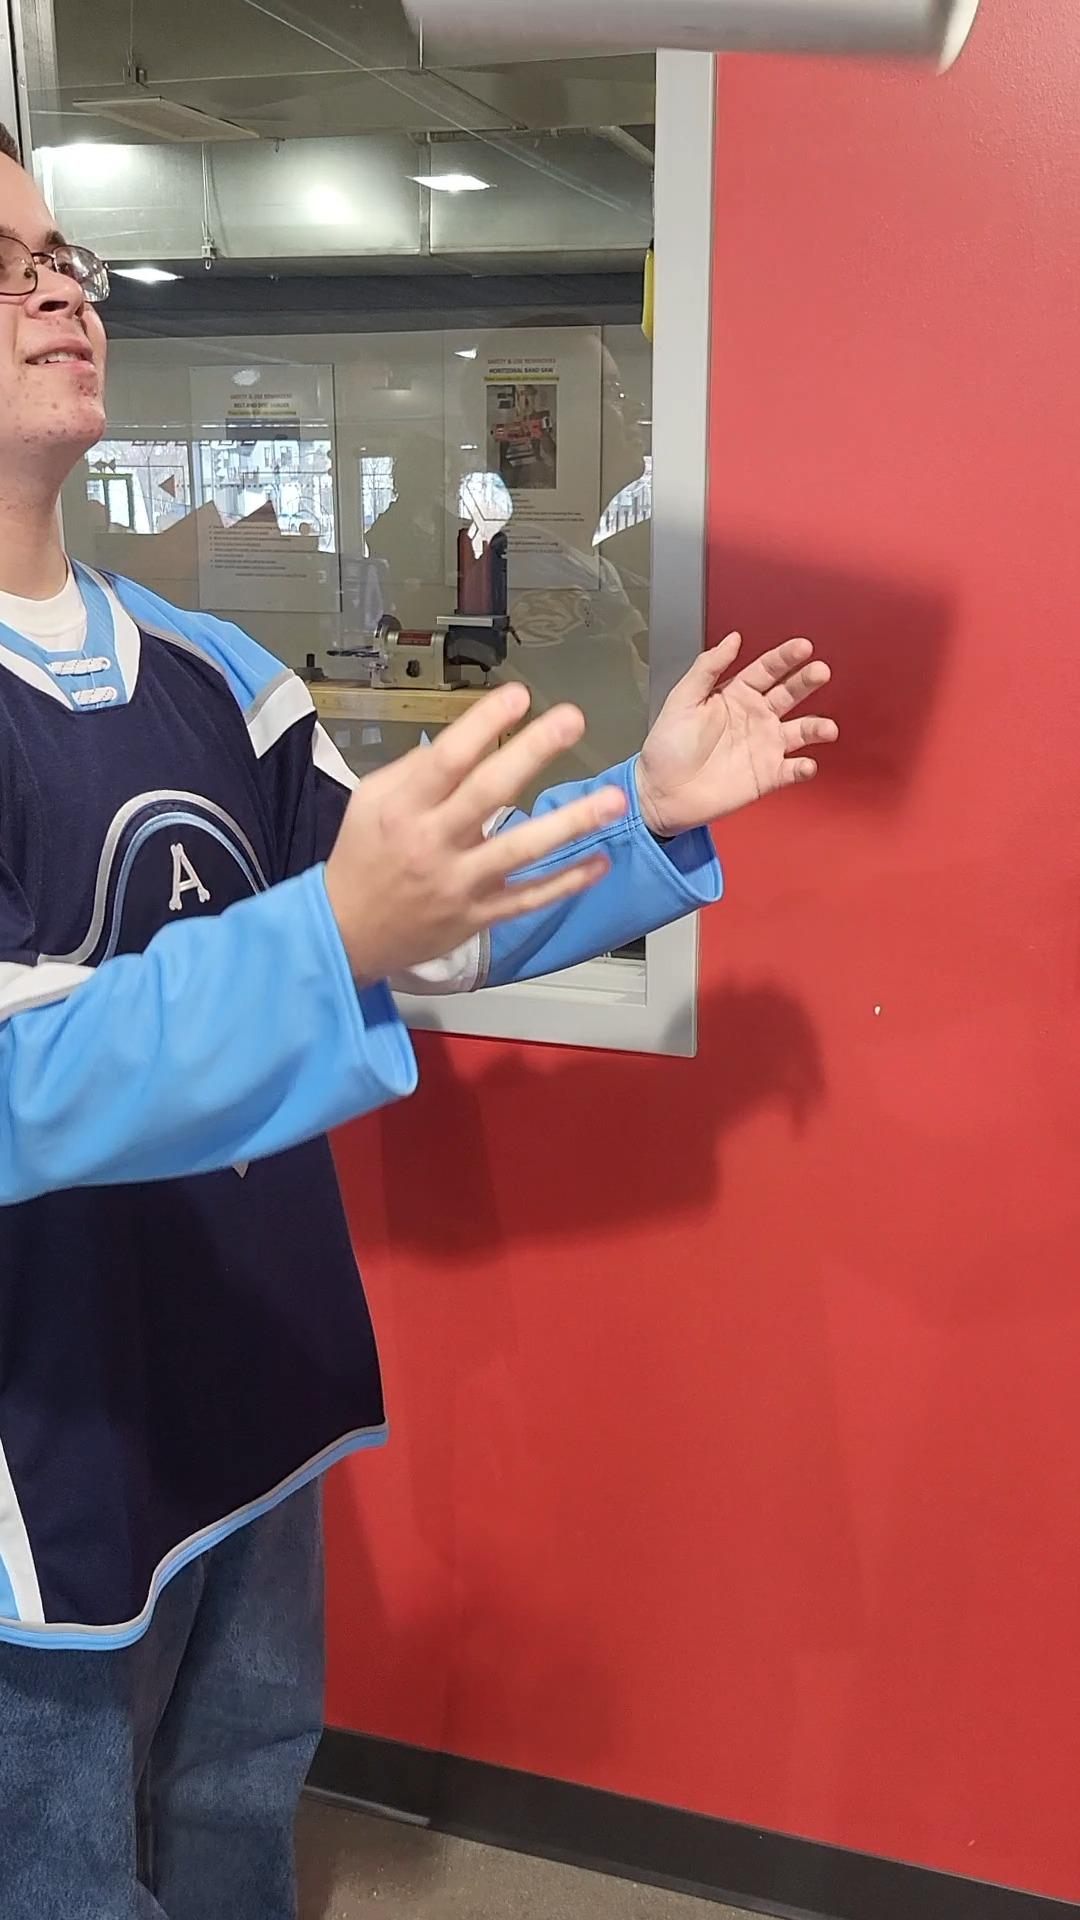coral: (413, 0, 993, 67)
